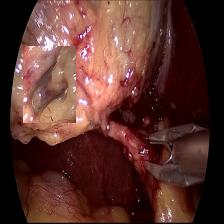Clipper: (134, 114, 208, 198)
Grasper: (23, 47, 76, 123)
